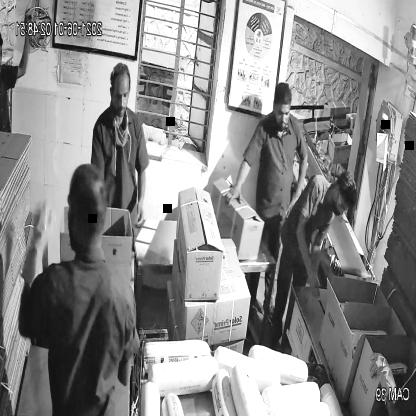no_goggles: (108, 84, 134, 106), (271, 103, 296, 123)
